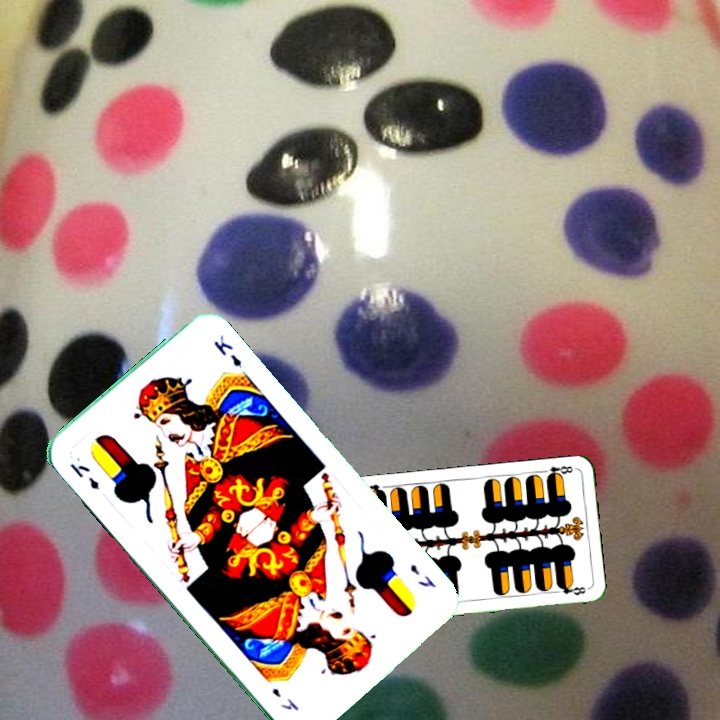E8: (538, 462, 578, 481)
EK: (65, 459, 102, 492), (406, 560, 438, 591)
